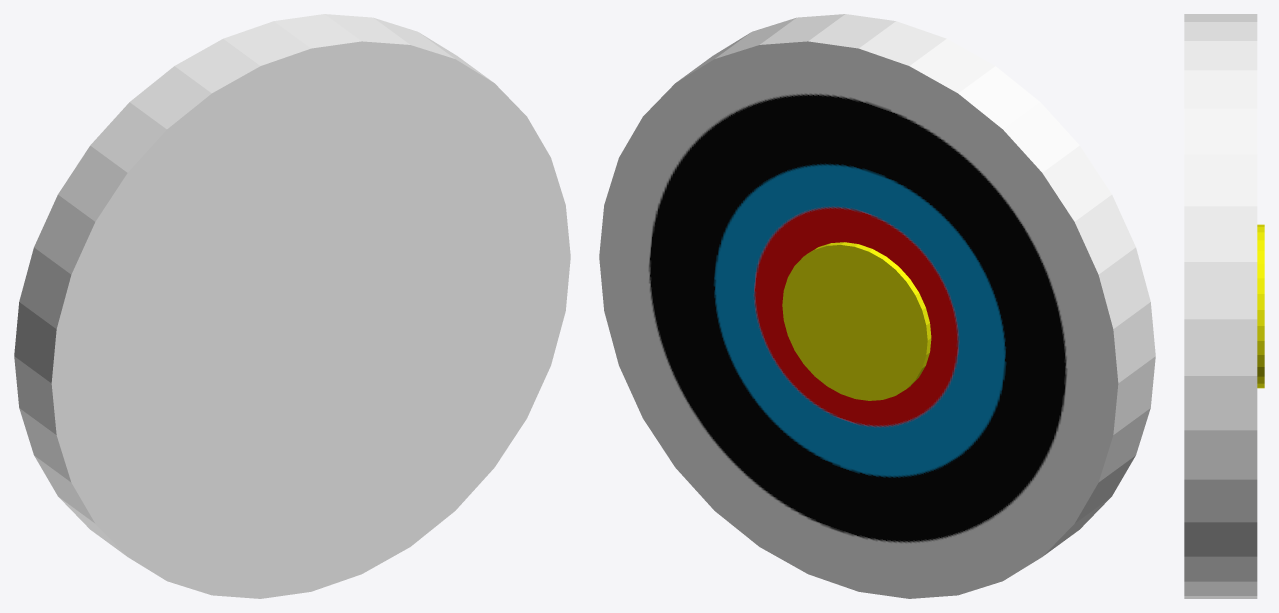
The model's file is target.fbx.
3 views of the same model, side by side, from view 1: azimuth 30°, elevation 25°; view 2: azimuth 150°, elevation 25°; view 3: azimuth 270°, elevation 25° (orthographic). The views are drawn at different scales.
Parts seen in each view (by area): view 1: 円; view 2: 円; view 3: 円.
Part boxes in pixels (x1,y1,x2,y2): 円: (14, 14, 570, 598); 円: (599, 14, 1155, 598); 円: (1184, 14, 1264, 598).
Bounding box in the file's own units: 400 × 400 × 55.
